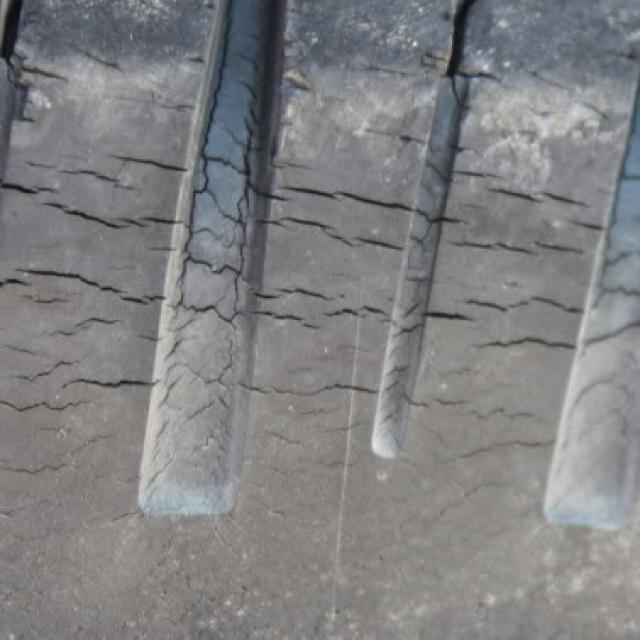Cracks: (0, 23, 638, 522)
